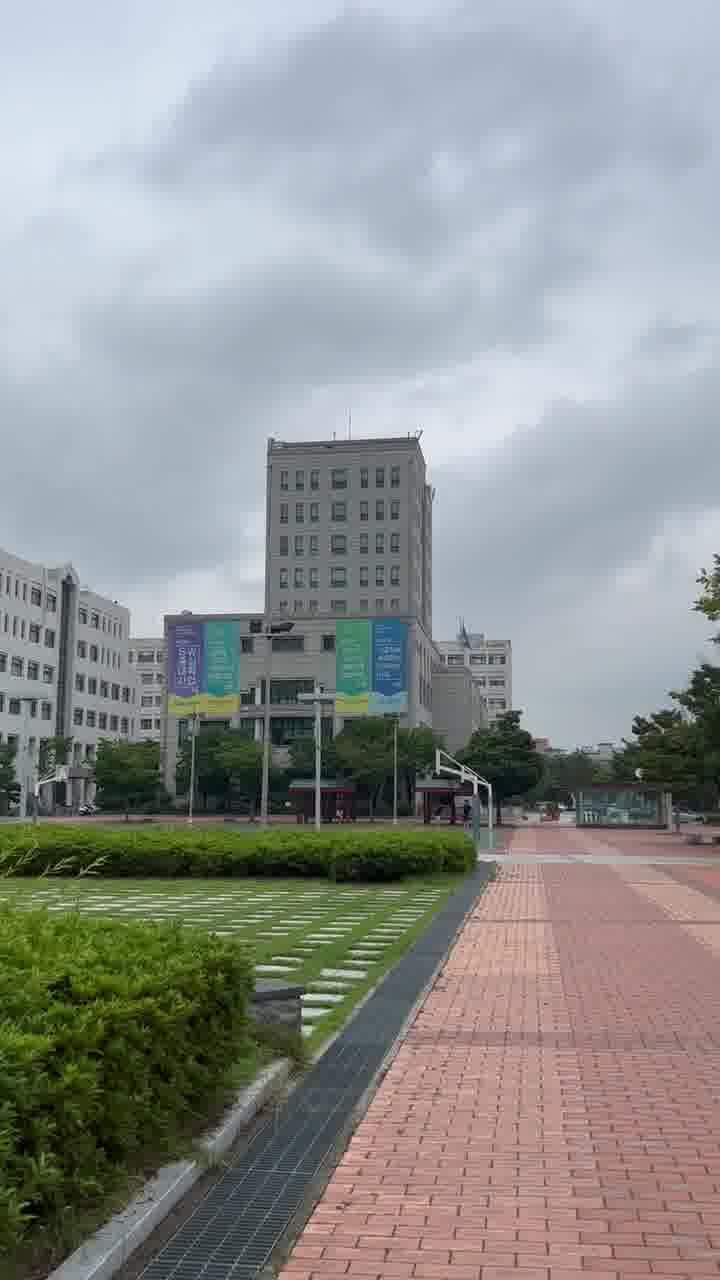building: (252, 426, 438, 624)
